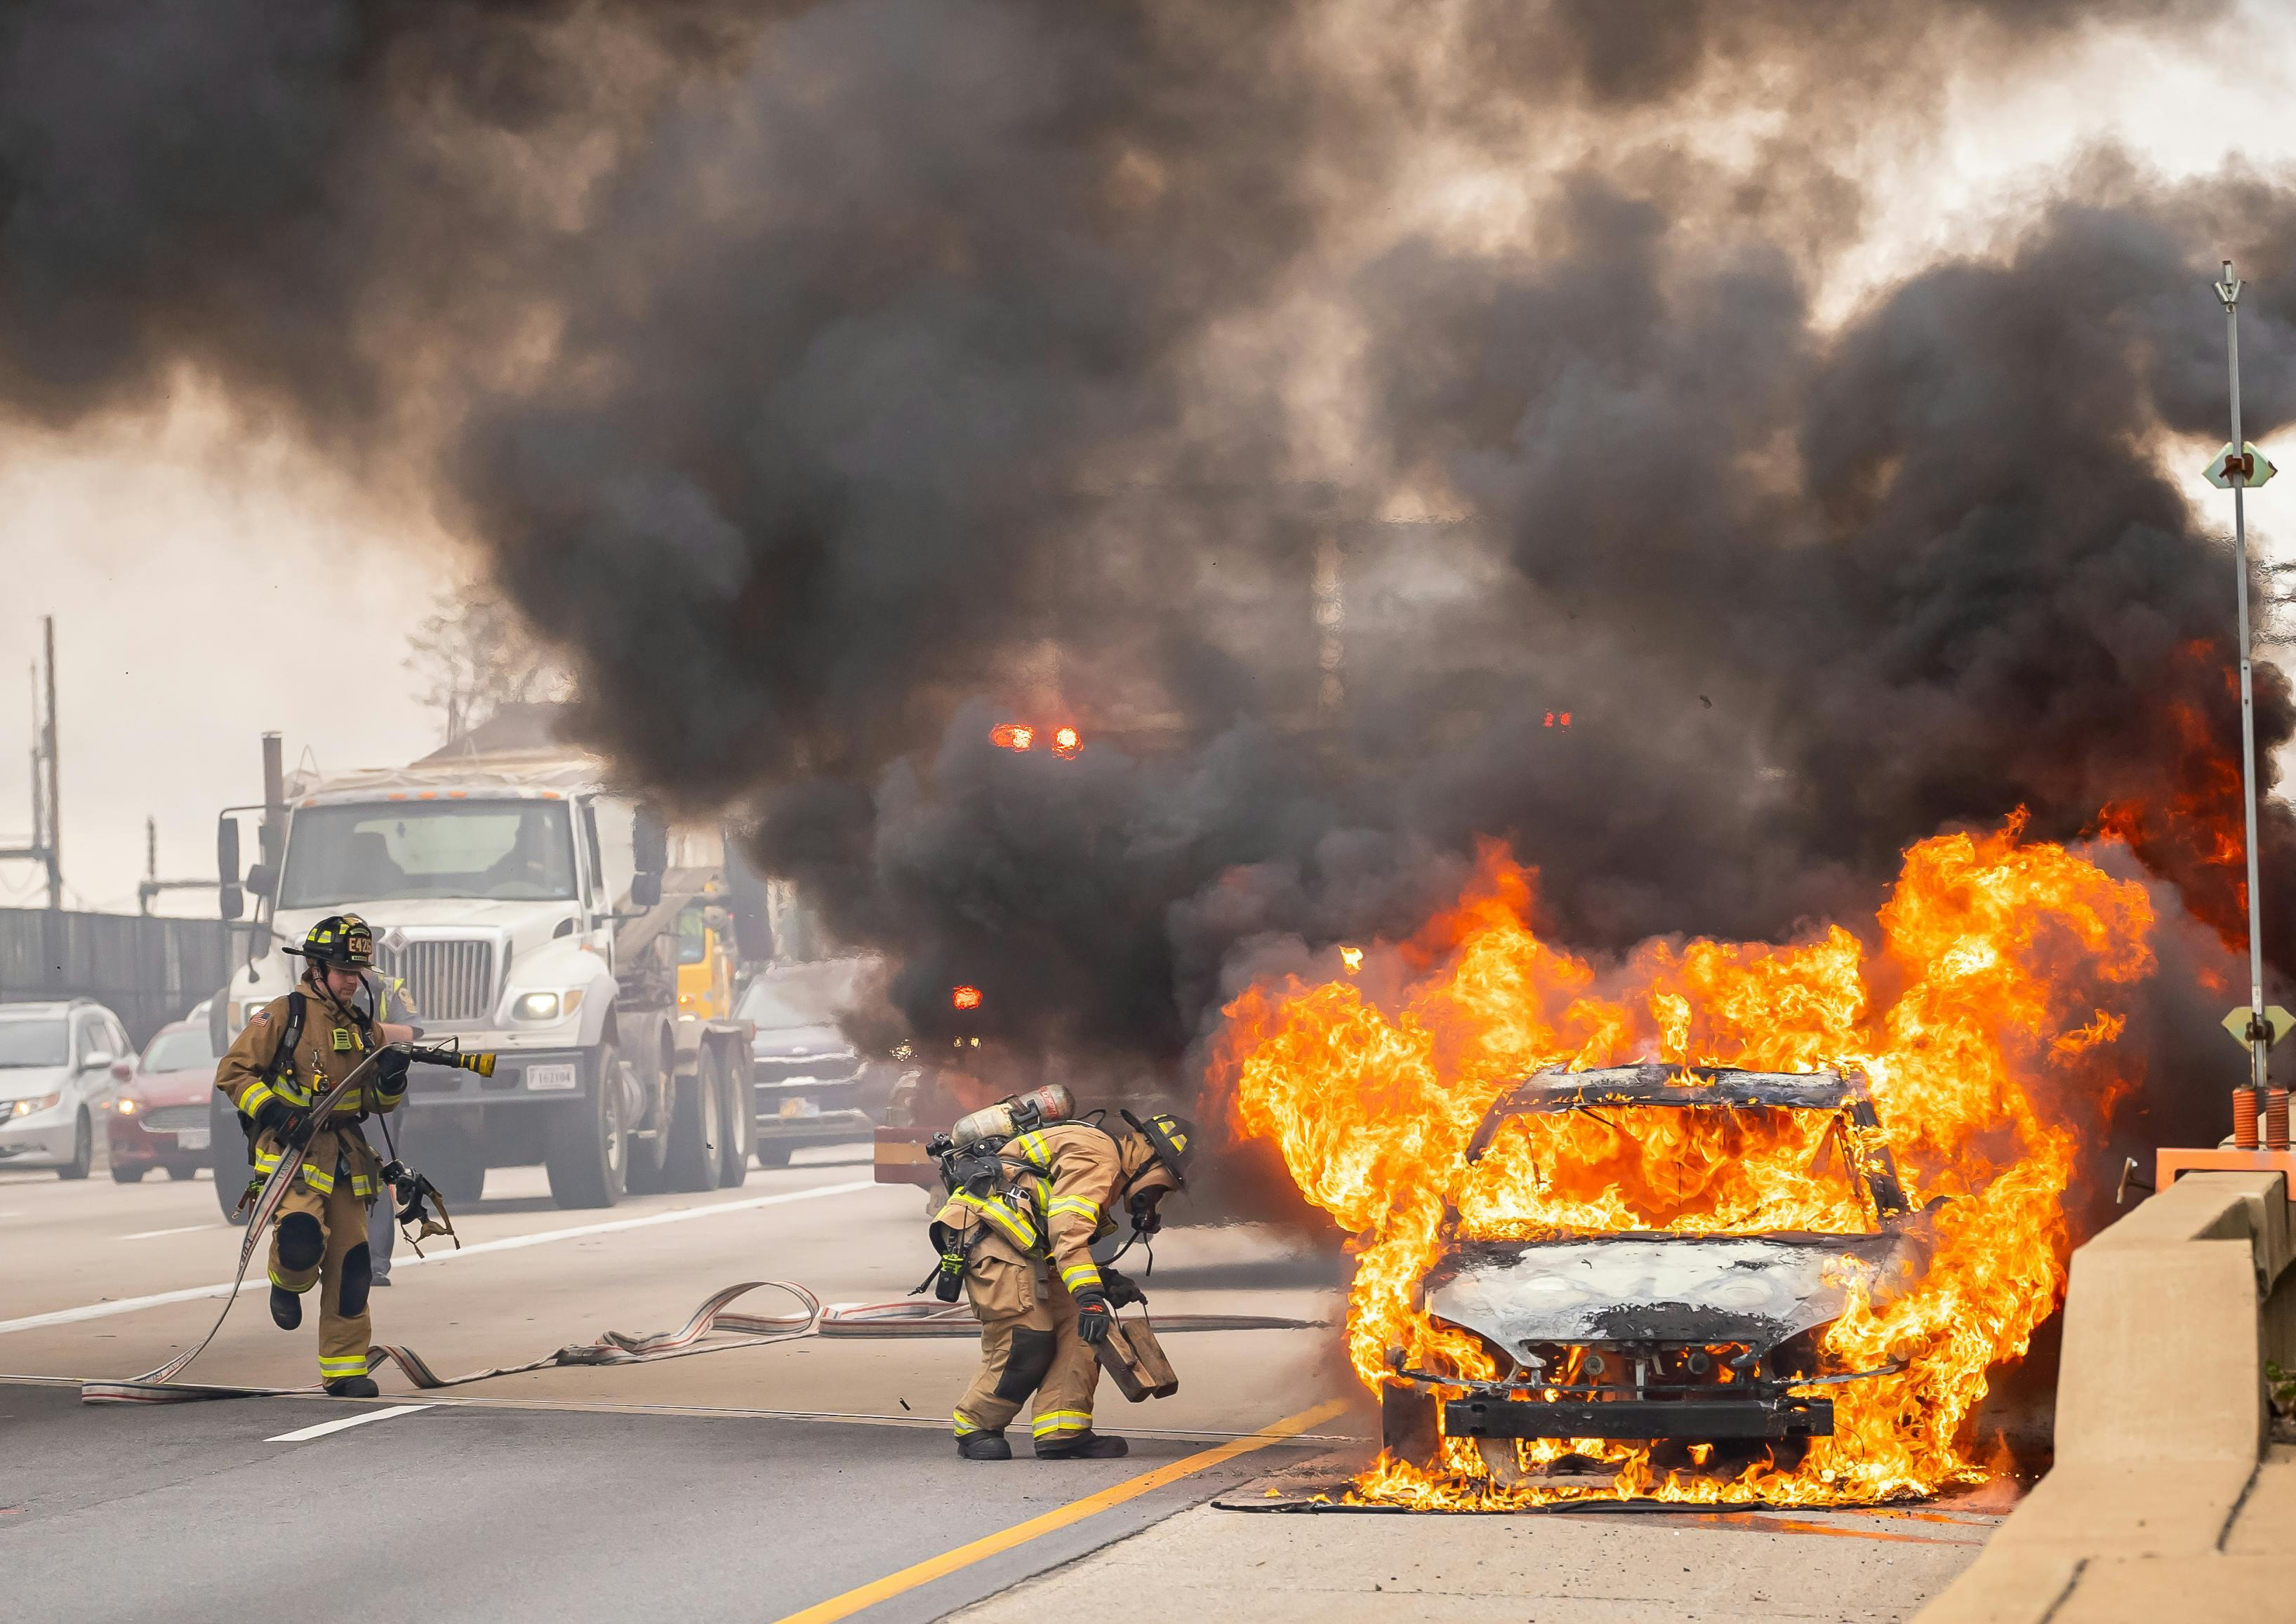smoke: (1206, 794, 2185, 1503)
